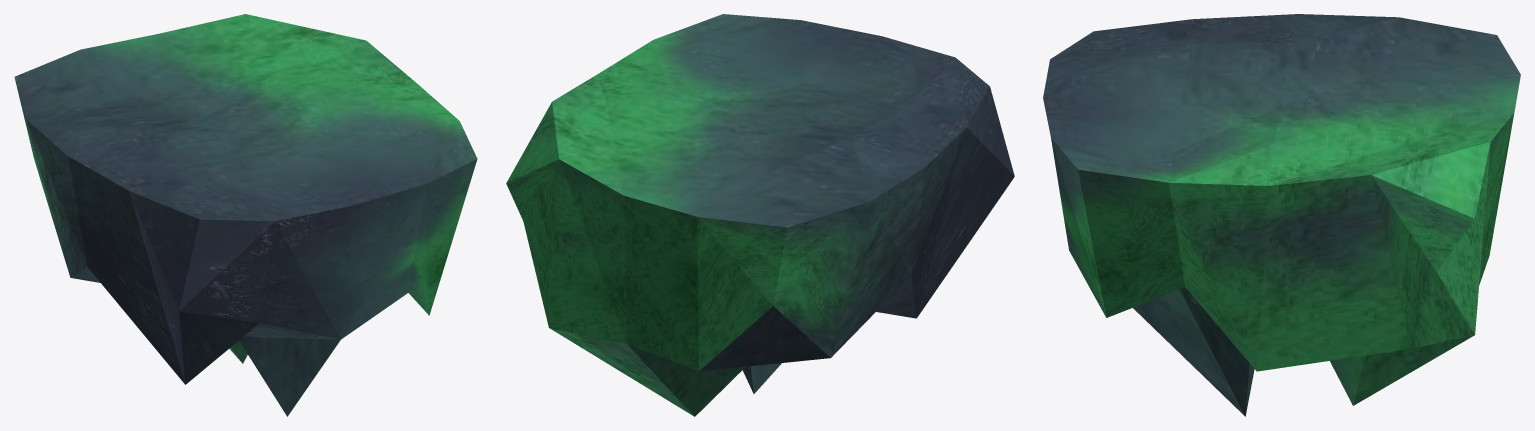
Rendered from piso_tortu.glb.
3 renders of one model, left to right at view 1: azimuth 30°, elevation 25°; view 2: azimuth 150°, elevation 25°; view 3: azimuth 270°, elevation 25°, orthographic. The views are drawn at different scales.
Visible parts, largest first — view 1: Isla_1-col; view 2: Isla_1-col; view 3: Isla_1-col.
Part boxes in pixels (x1,y1,x2,y2): Isla_1-col: [14, 14, 477, 416]; Isla_1-col: [506, 14, 1014, 416]; Isla_1-col: [1043, 14, 1520, 416].
Size of the model in its own units: 4.67 by 3.97 by 5.48.
Materials: 1 (1 with a texture image).
